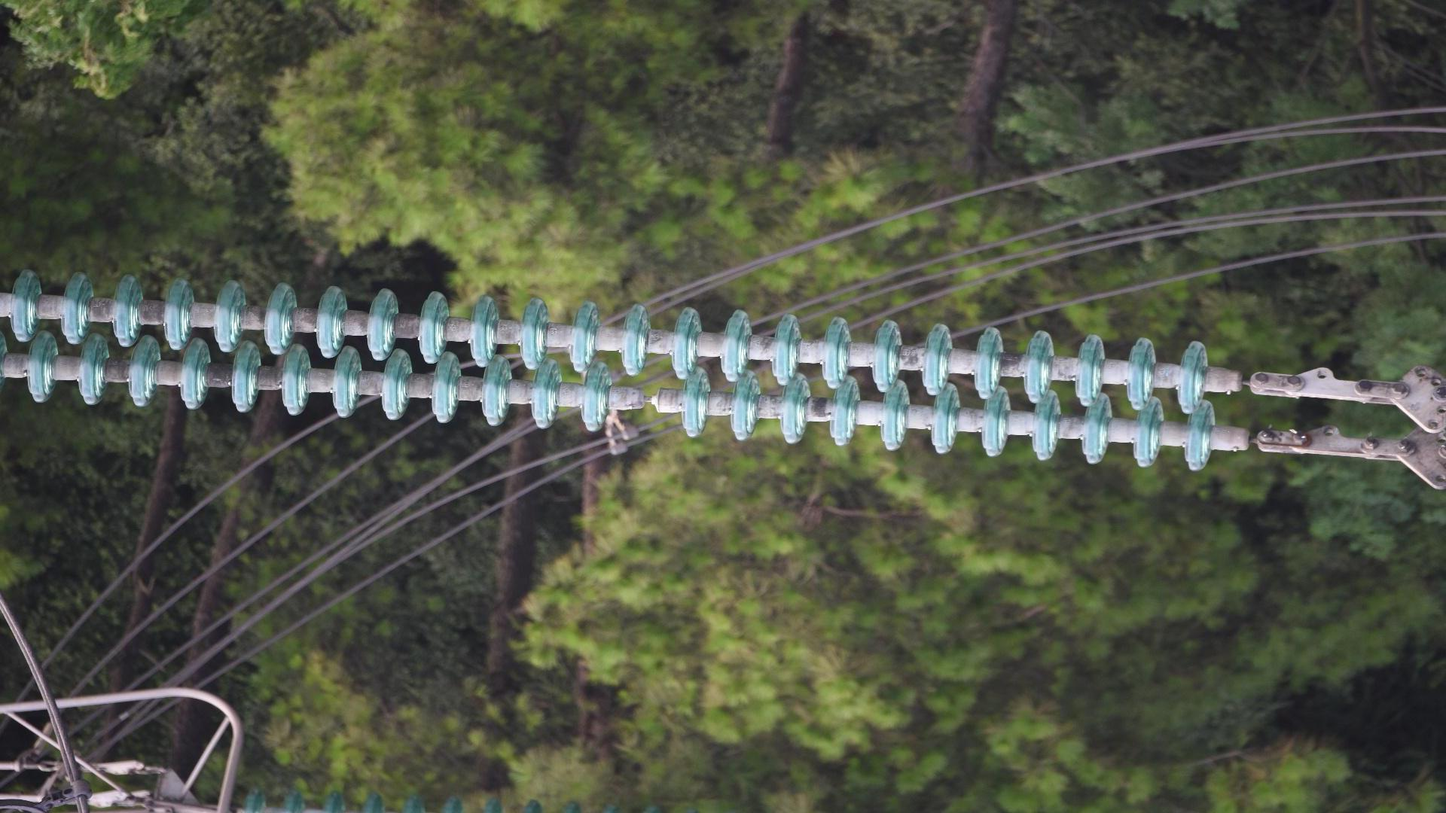insulator: (1, 255, 1221, 480)
insulator_stringdrop: (575, 355, 718, 444)
